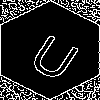U: (25, 25, 88, 83)
